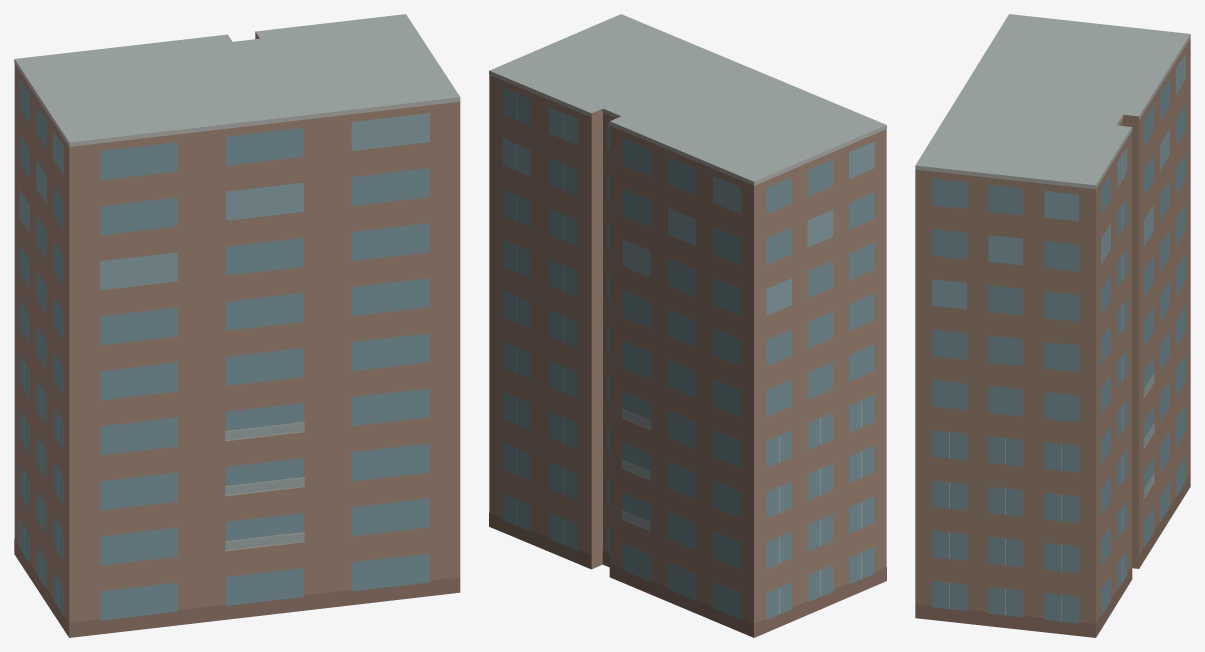
The model's file is survey-upis-32869434.glb.
The picture shows the model from 3 angles, left to right: view 1: azimuth 30°, elevation 25°; view 2: azimuth 150°, elevation 25°; view 3: azimuth 270°, elevation 25°; orthographic projection. The views are drawn at different scales.
Visible parts, largest first — view 1: survey-upis-32869434.tmp; view 2: survey-upis-32869434.tmp; view 3: survey-upis-32869434.tmp.
Boxes of the visible parts, x1,y1,x2,y2 form: survey-upis-32869434.tmp: (14,14,460,637); survey-upis-32869434.tmp: (489,14,886,637); survey-upis-32869434.tmp: (915,14,1190,637).
Bounding box in the file's own units: 22.3 × 27.45 × 15.15.
